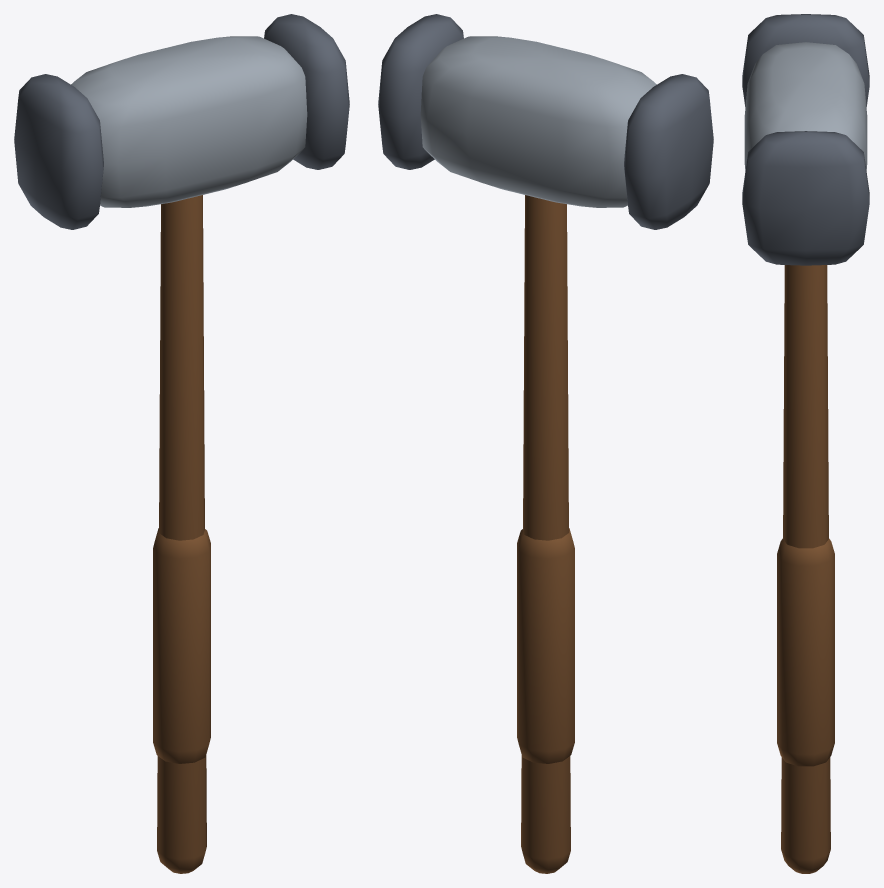
File: hammer.glb
The picture shows the model from 3 angles, left to right: view 1: azimuth 30°, elevation 25°; view 2: azimuth 150°, elevation 25°; view 3: azimuth 270°, elevation 25°; orthographic projection. The views are drawn at different scales.
Parts seen in each view (by area): view 1: wood, steel, steeldark; view 2: wood, steel, steeldark; view 3: wood, steeldark, steel.
Boxes of the visible parts, bbox=[...] form: wood: bbox=[153, 195, 210, 873]; steel: bbox=[71, 36, 307, 207]; steeldark: bbox=[14, 14, 349, 229]; wood: bbox=[517, 195, 574, 873]; steel: bbox=[420, 36, 656, 207]; steeldark: bbox=[378, 14, 713, 229]; wood: bbox=[777, 265, 834, 873]; steeldark: bbox=[742, 14, 869, 265]; steel: bbox=[744, 42, 867, 170].
Bounding box in the file's own units: 0.48 × 1.27 × 0.1837.
